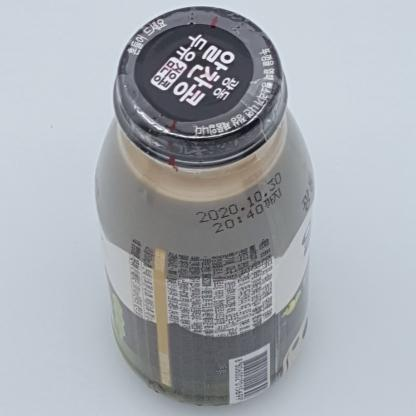--------200ML: (94, 5, 315, 407)
